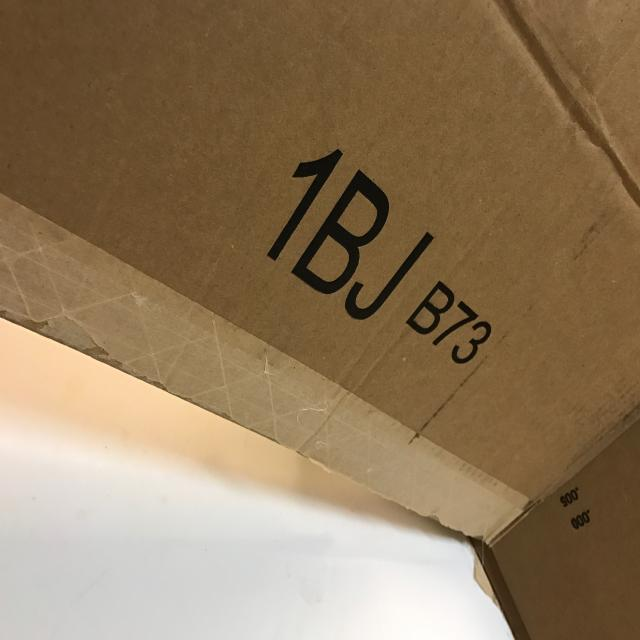cardboard: (1, 1, 639, 636)
